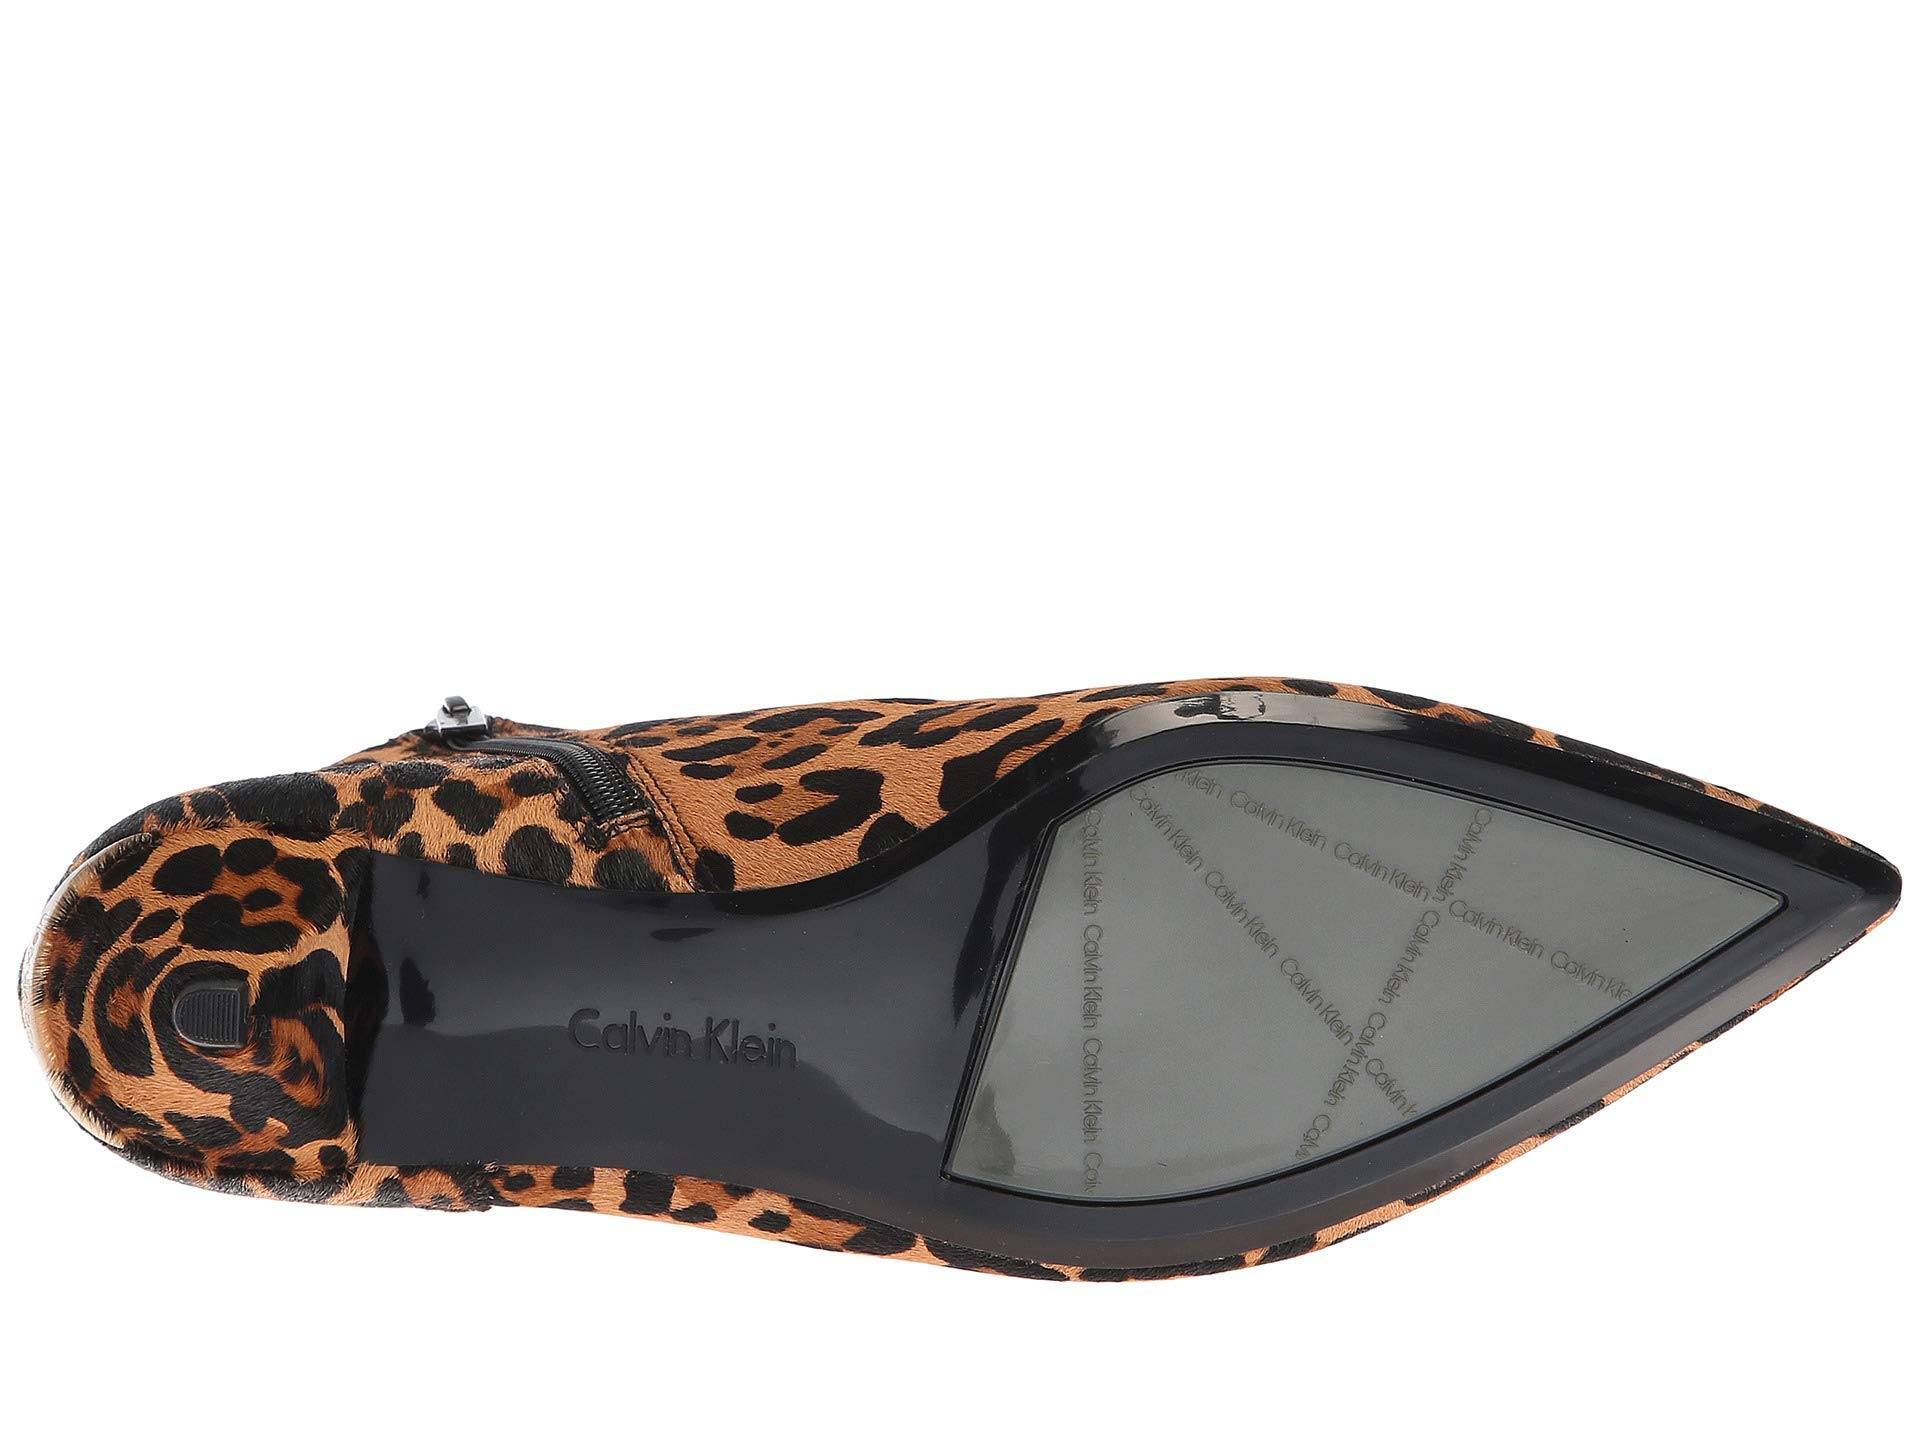text: (1129, 791, 1495, 1085)
